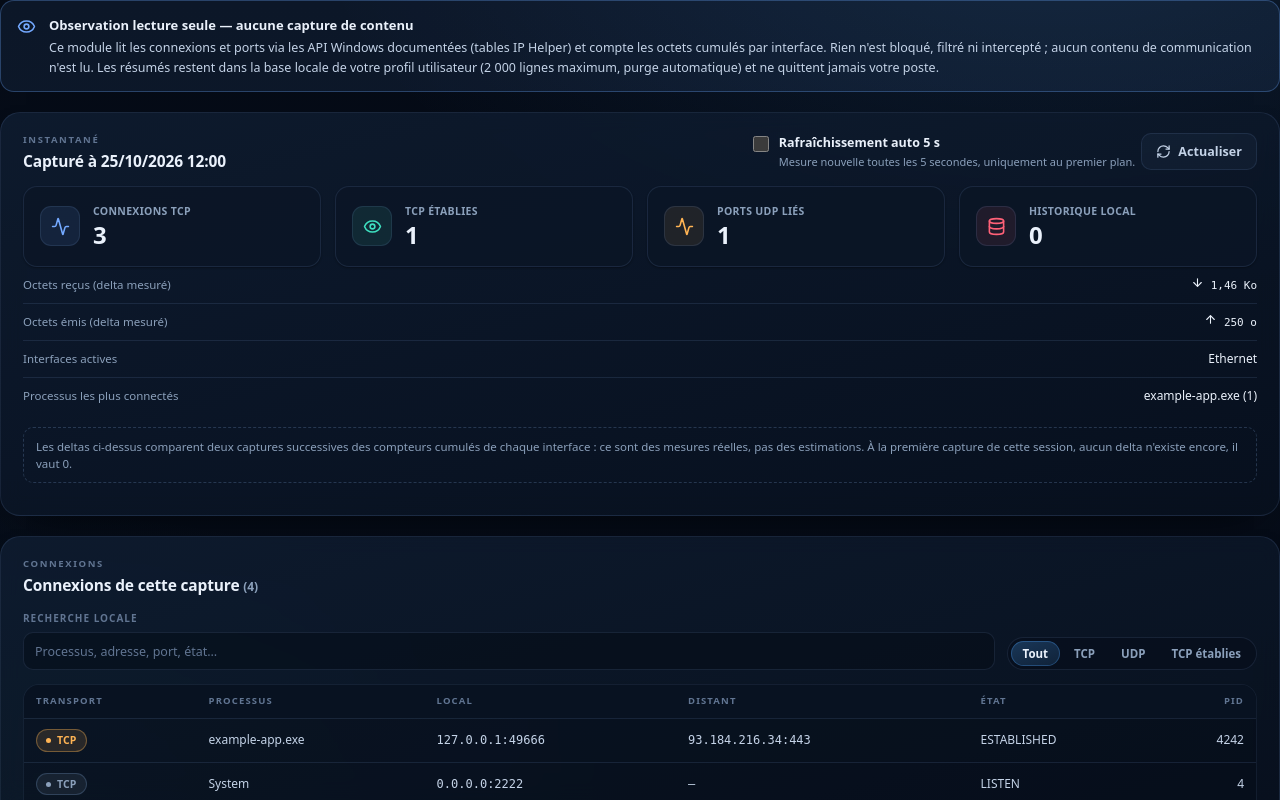
Test: NetworkMonitor › filters rows by transport and search query
Check: the text "example-app.exe" is shown, box [196, 718, 424, 762]
Check: the text "(4)" is shown, box [243, 578, 258, 595]
UDP-only filter keeps the binding and hides the TCP rows.
Click the button "UDP" at coordinates (1133, 654), box [1109, 641, 1157, 666]
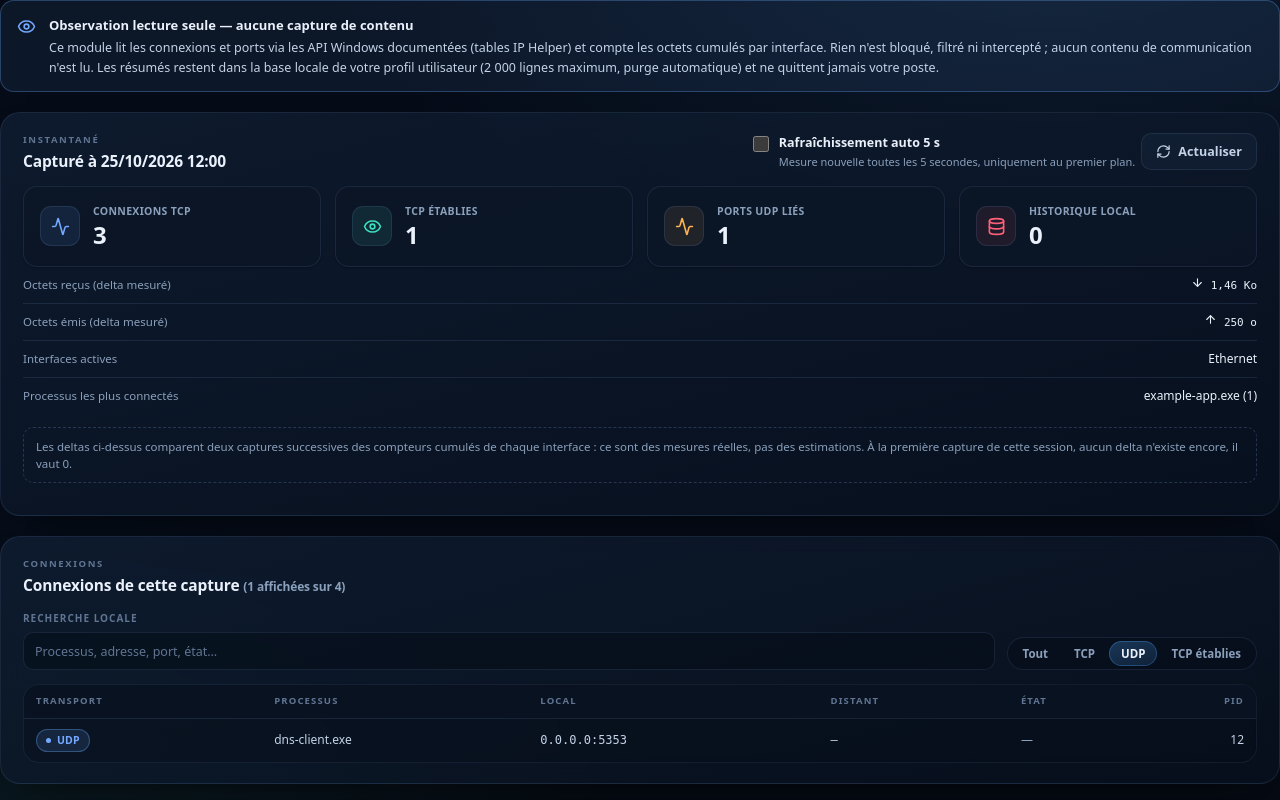
Check: the text "dns-client.exe" is shown, box [262, 718, 528, 762]
Check: the text "(1 affichées sur 4)" is shown, box [243, 578, 345, 595]
Search by process name on the unfiltered view.
Click the button "Tout" at coordinates (1035, 654), box [1010, 641, 1060, 666]
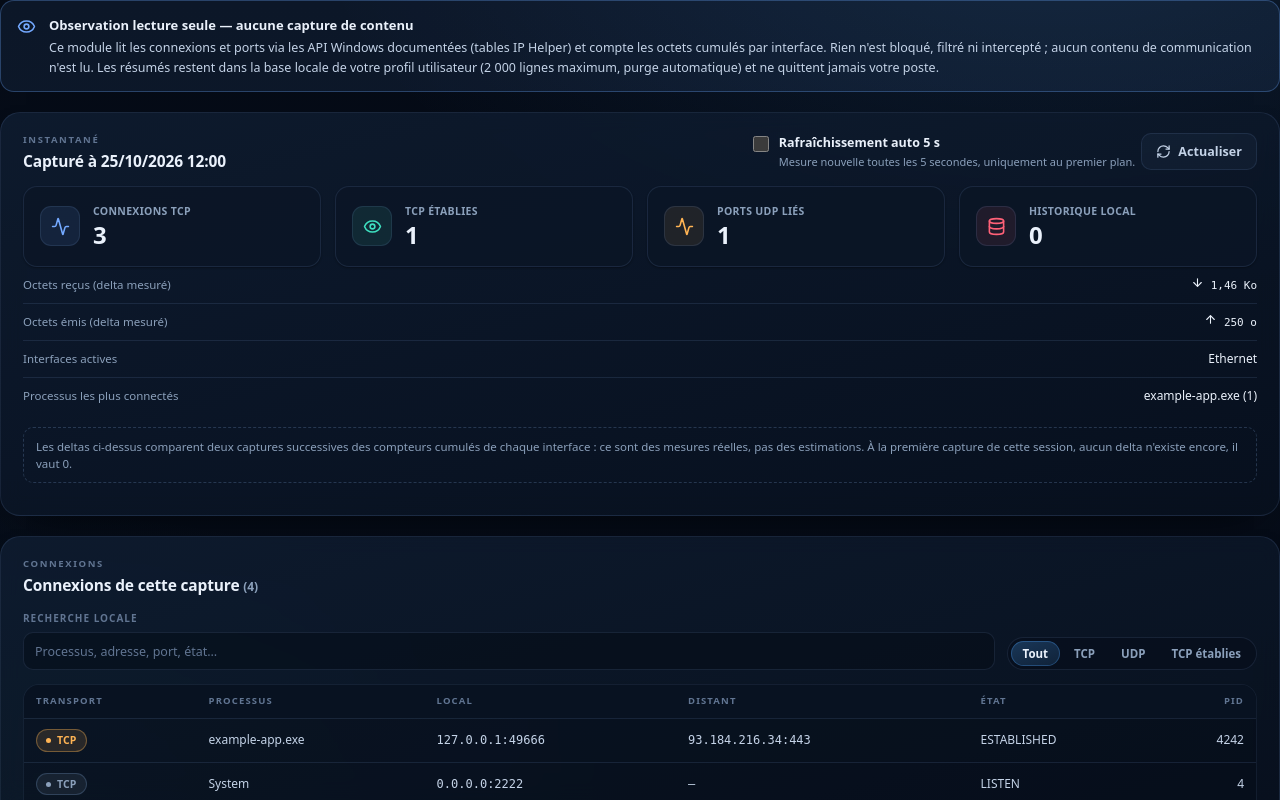
Type "example-app" into the search field labelled "Recherche locale" at coordinates (509, 651), box [23, 632, 994, 670]
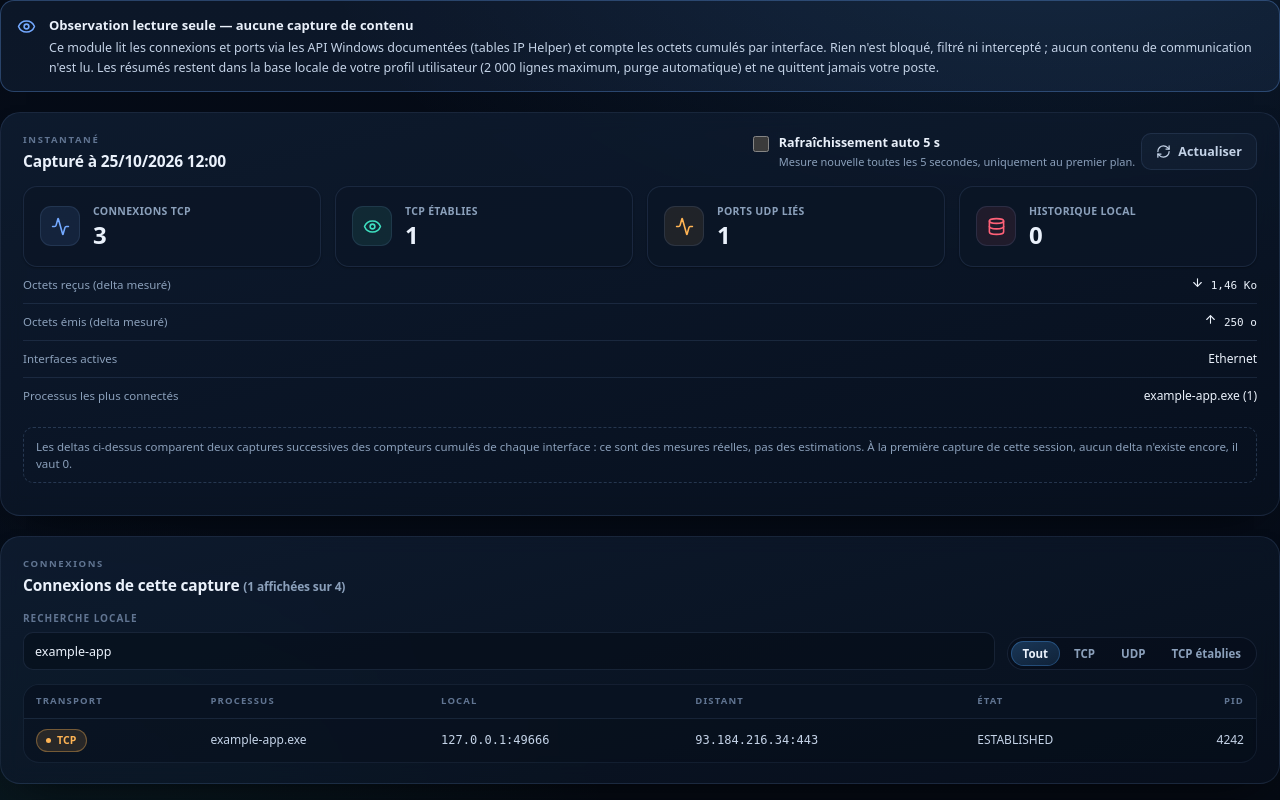
Check: the text "example-app.exe" is shown, box [198, 718, 429, 762]
Check: the text "(1 affichées sur 4)" is shown, box [243, 578, 345, 595]
